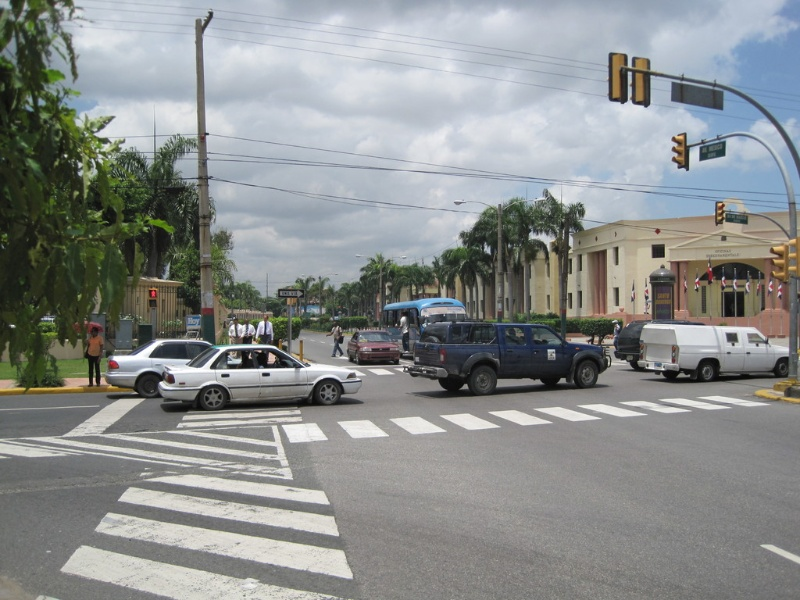zebra_cross: (123, 405, 366, 595), (305, 390, 734, 447)
